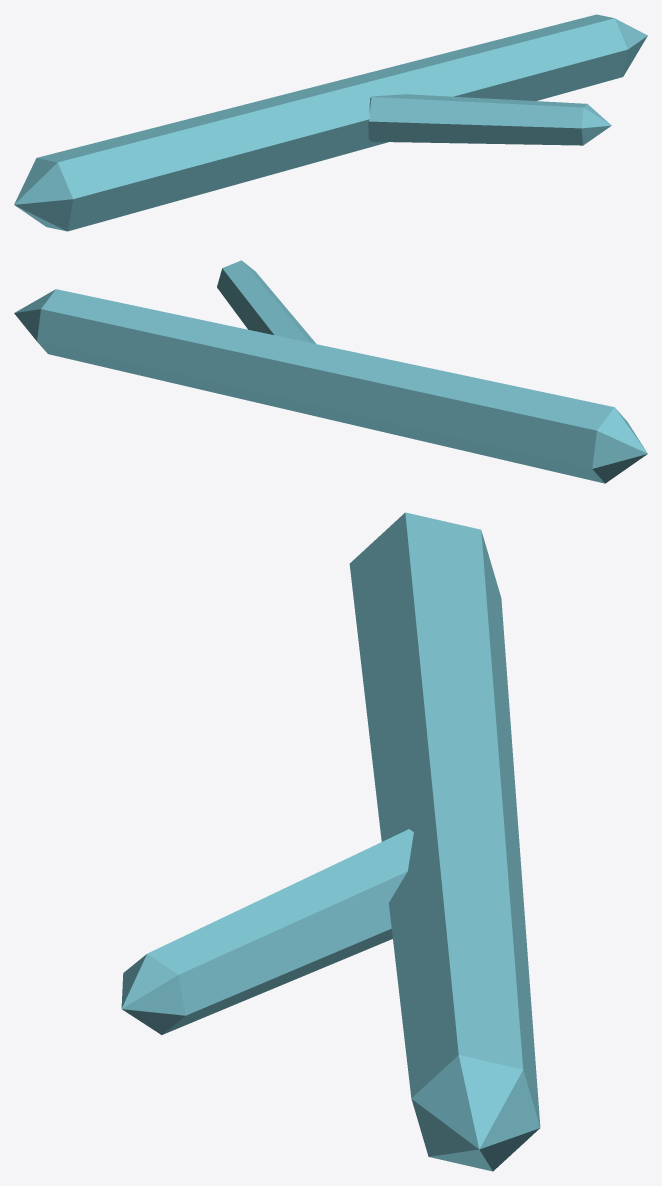
The model's file is Glass_Branch.glb.
3 renders of one model, top to bottom at view 1: azimuth 30°, elevation 25°; view 2: azimuth 150°, elevation 25°; view 3: azimuth 270°, elevation 25°, orthographic. The views are drawn at different scales.
Visible parts, largest first — view 1: Glass_Branch; view 2: Glass_Branch; view 3: Glass_Branch.
Boxes of the visible parts, x1,y1,x2,y2 form: Glass_Branch: (14, 14, 647, 231); Glass_Branch: (14, 260, 647, 483); Glass_Branch: (121, 512, 540, 1171).
Bounding box in the file's own units: 2 × 0.2126 × 0.5854.
